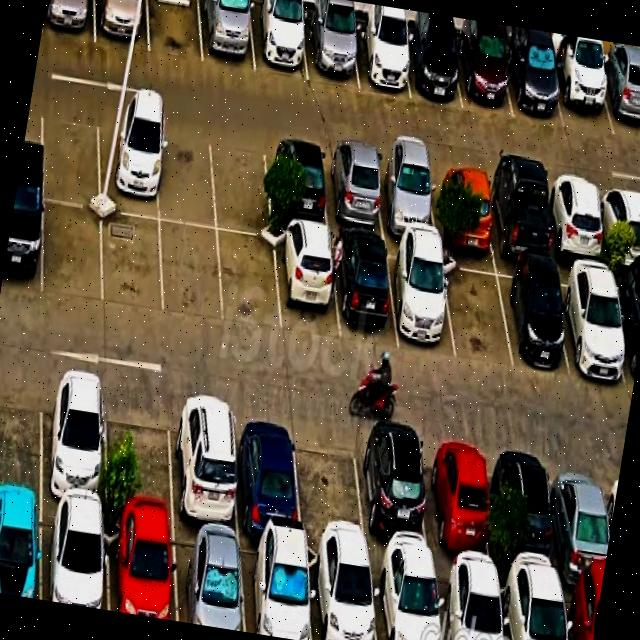empty: (295, 415, 368, 554), (107, 381, 174, 523), (441, 254, 513, 367), (210, 129, 272, 238), (160, 222, 223, 323), (218, 232, 281, 332), (103, 212, 163, 316), (158, 121, 216, 228), (43, 201, 103, 304), (42, 101, 100, 207), (0, 365, 41, 499), (148, 0, 203, 63)
occupied: (355, 424, 433, 564), (422, 432, 493, 574), (234, 403, 302, 541), (172, 393, 239, 533), (41, 370, 106, 511), (496, 442, 561, 581), (556, 265, 628, 382), (550, 451, 610, 587), (386, 243, 456, 358), (496, 261, 568, 370), (172, 526, 245, 632), (106, 515, 177, 621), (240, 537, 312, 640), (332, 234, 398, 345), (275, 226, 339, 339), (42, 503, 108, 610), (98, 111, 159, 219), (307, 546, 377, 640), (485, 170, 553, 263), (430, 162, 495, 252), (265, 138, 329, 228), (370, 559, 441, 640), (549, 50, 614, 136), (374, 153, 438, 240), (545, 177, 607, 265), (323, 146, 385, 234), (504, 39, 564, 127), (435, 565, 504, 640), (455, 33, 513, 117), (402, 29, 462, 108), (249, 0, 308, 80), (351, 20, 410, 98), (498, 574, 567, 640), (1, 191, 43, 296), (0, 498, 42, 600), (304, 13, 359, 87), (200, 0, 255, 72), (596, 56, 640, 140), (597, 184, 640, 269), (612, 272, 640, 388), (95, 0, 149, 51), (561, 582, 602, 640), (42, 0, 95, 43)
